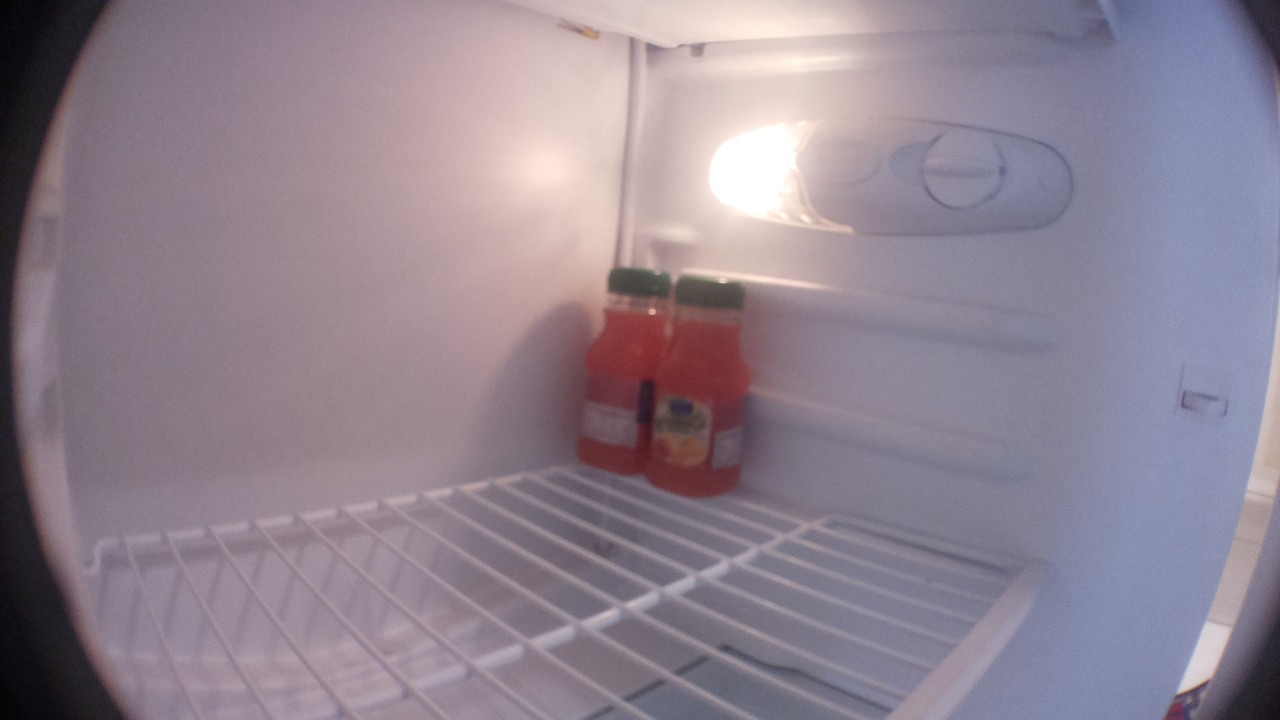juice: (645, 273, 755, 501), (577, 261, 659, 480)
